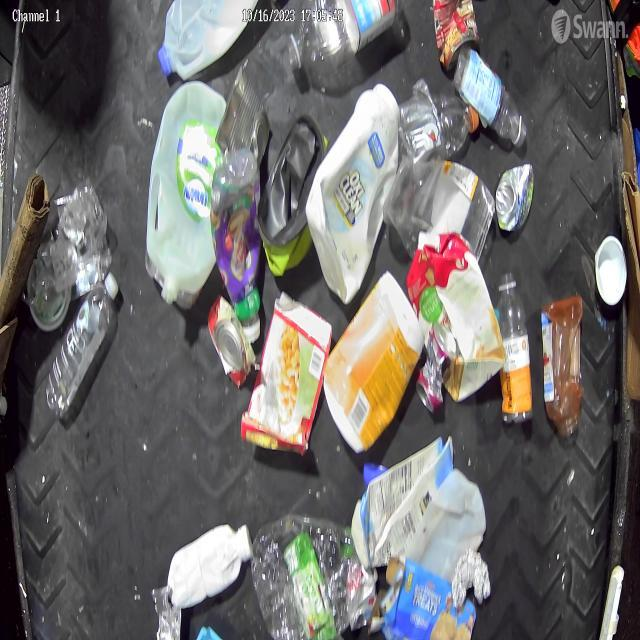can: (416, 320, 454, 410), (496, 157, 532, 226)
milk_jug: (313, 86, 410, 302), (156, 82, 214, 282), (150, 0, 252, 80)
non_white_jug: (328, 273, 422, 443), (255, 115, 321, 264)
plastic_bottle: (250, 514, 378, 630), (48, 272, 120, 414), (292, 0, 394, 82), (452, 52, 530, 146), (399, 96, 477, 154)
